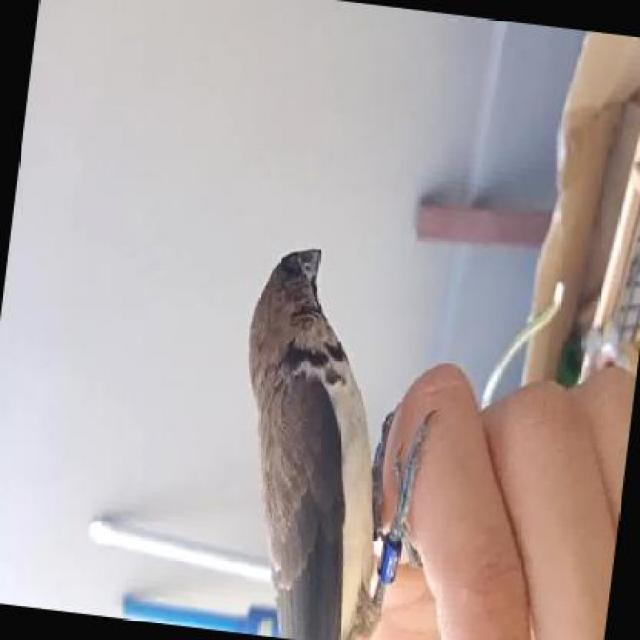Bird: (243, 224, 386, 640)
